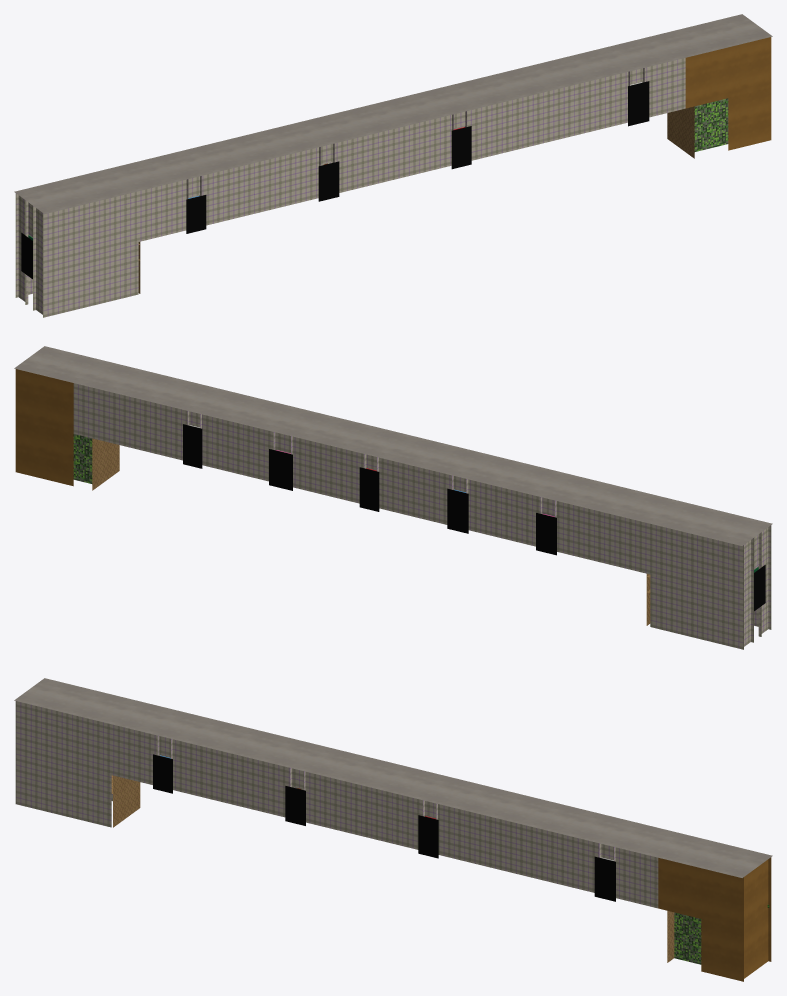
File: rdwe_hallway.glb
3 views of the same model, one above another, from view 1: azimuth 30°, elevation 25°; view 2: azimuth 150°, elevation 25°; view 3: azimuth 330°, elevation 25° (orthographic).
Parts seen in each view (by area): view 1: Wall_Plaid.001, Ceiling_Hall.001, Wall_Amber.001, Void.001, Moss_Stone.001, Carpet_Tan.001; view 2: Wall_Plaid.001, Ceiling_Hall.001, Wall_Amber.001, Void.001, Carpet_Tan.001, Moss_Stone.001; view 3: Wall_Plaid.001, Ceiling_Hall.001, Wall_Amber.001, Void.001, Carpet_Tan.001, Moss_Stone.001.
Part boxes in pixels (box(x1,y1,x2,y2)): Wall_Plaid.001: box(15, 58, 685, 317); Ceiling_Hall.001: box(14, 14, 772, 213); Wall_Amber.001: box(685, 37, 771, 150); Void.001: box(21, 81, 649, 279); Moss_Stone.001: box(694, 98, 728, 151); Carpet_Tan.001: box(138, 106, 694, 293); Wall_Plaid.001: box(73, 383, 771, 649); Ceiling_Hall.001: box(14, 346, 772, 545); Wall_Amber.001: box(15, 369, 73, 486); Void.001: box(183, 424, 765, 611); Carpet_Tan.001: box(92, 438, 650, 625); Moss_Stone.001: box(73, 434, 92, 483); Wall_Plaid.001: box(15, 701, 658, 908); Ceiling_Hall.001: box(14, 678, 772, 877); Wall_Amber.001: box(658, 857, 771, 981); Void.001: box(153, 754, 615, 901); Carpet_Tan.001: box(111, 775, 674, 962); Moss_Stone.001: box(674, 912, 701, 964).
Size of the model in its own units: 49.55 by 6.8 by 3.9.
Materials: 23 (16 with a texture image).
